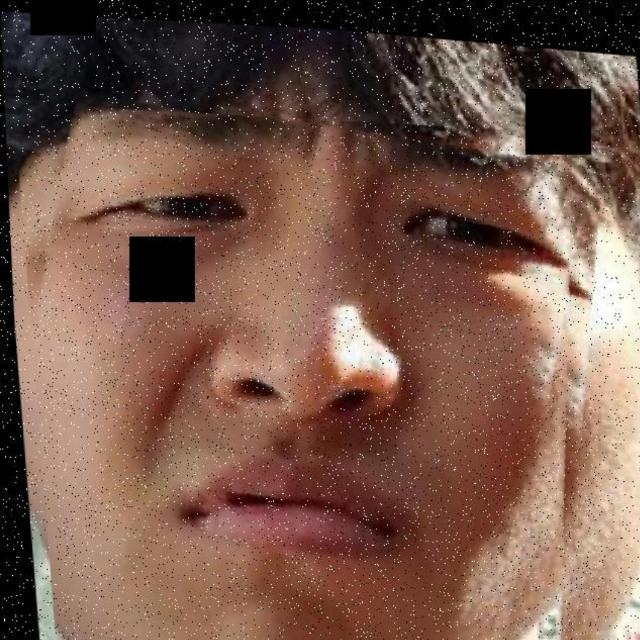Sad: (24, 75, 596, 640)
